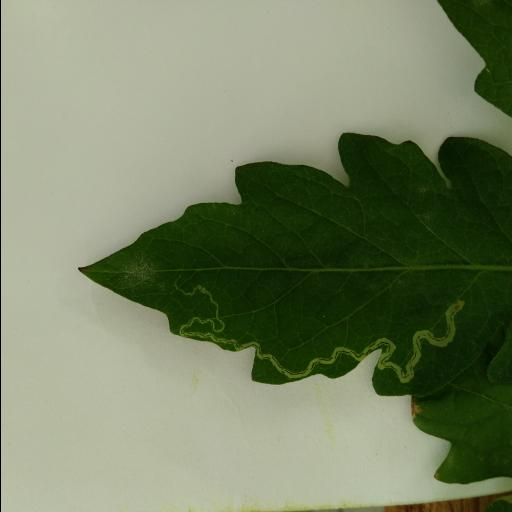disease_tomato: (74, 130, 512, 394)
